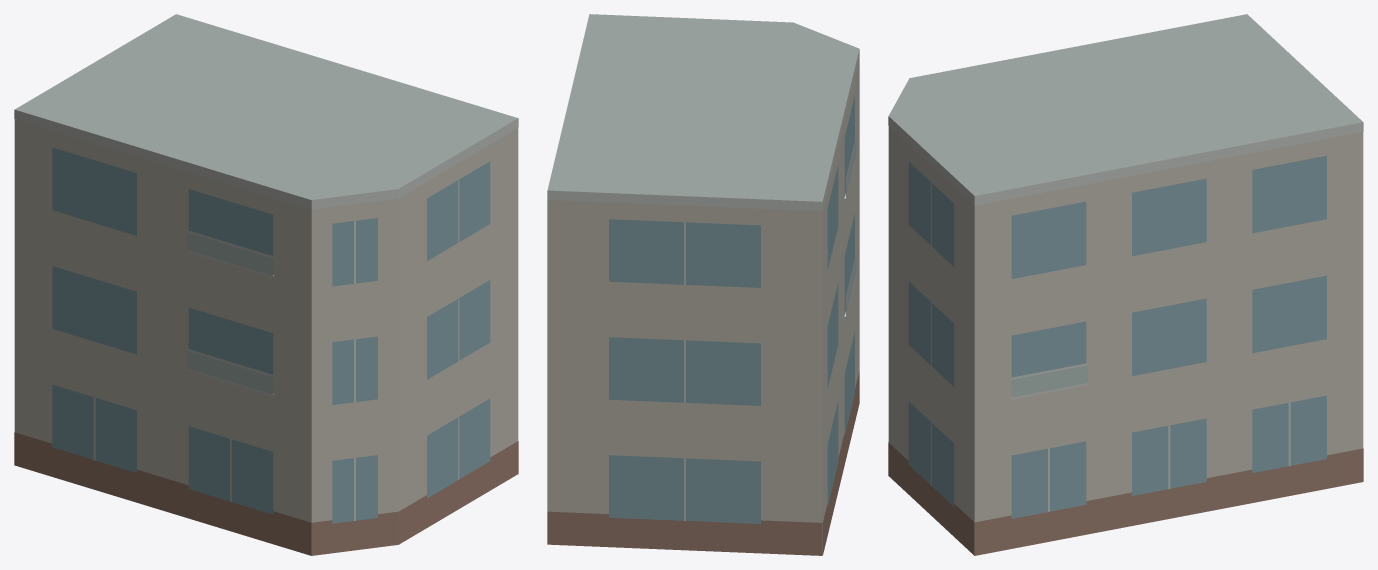
File: survey-upis-32718191.glb
The picture shows the model from 3 angles, left to right: view 1: azimuth 30°, elevation 25°; view 2: azimuth 150°, elevation 25°; view 3: azimuth 270°, elevation 25°; orthographic projection.
Parts seen in each view (by area): view 1: survey-upis-32718191.tmp; view 2: survey-upis-32718191.tmp; view 3: survey-upis-32718191.tmp.
Boxes of the visible parts, x1,y1,x2,y2 form: survey-upis-32718191.tmp: (14,14,518,555); survey-upis-32718191.tmp: (547,14,859,555); survey-upis-32718191.tmp: (888,14,1363,555).
Size of the model in its own units: 9.94 by 9.15 by 10.96.
